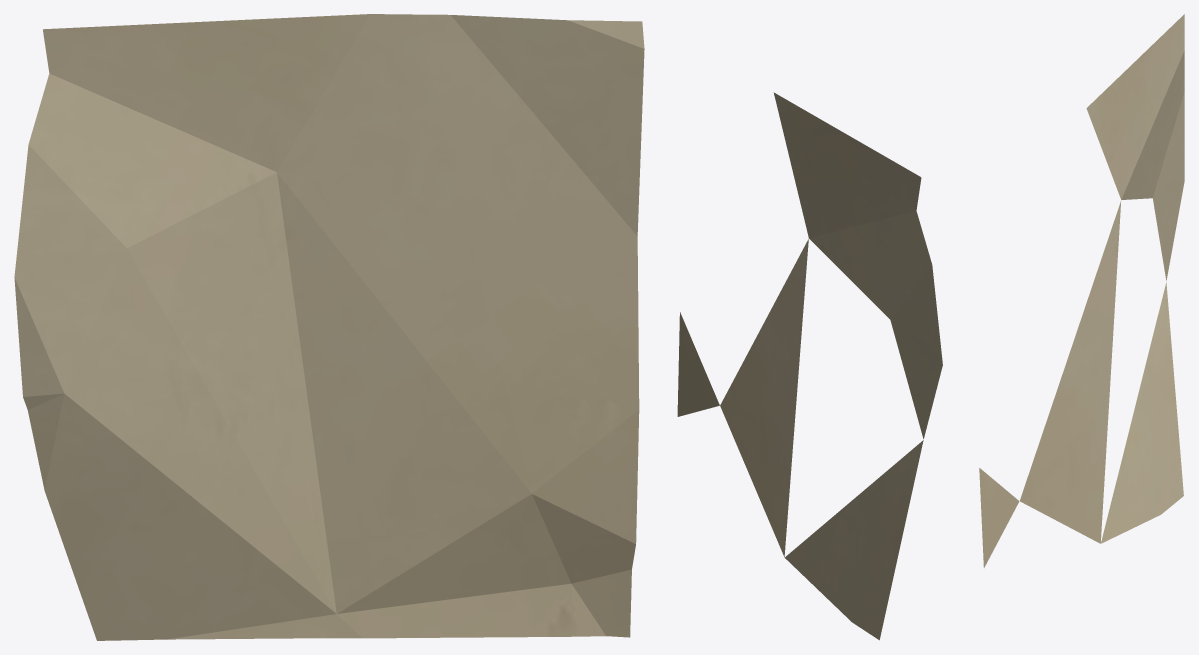
3 views of the same model, side by side, from view 1: azimuth 30°, elevation 25°; view 2: azimuth 150°, elevation 25°; view 3: azimuth 270°, elevation 25° (orthographic). The views are drawn at different scales.
Size of the model in its own units: 0.6813 by 0.8374 by 0.3501.
2 materials, 2 textured.
